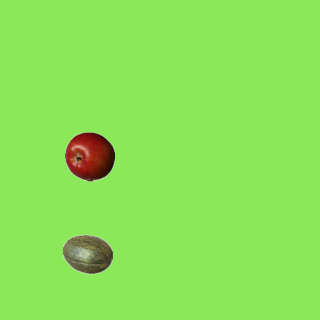Apple Braeburn: (64, 131, 114, 181)
Melon Piel de Sapo: (62, 229, 112, 279)
